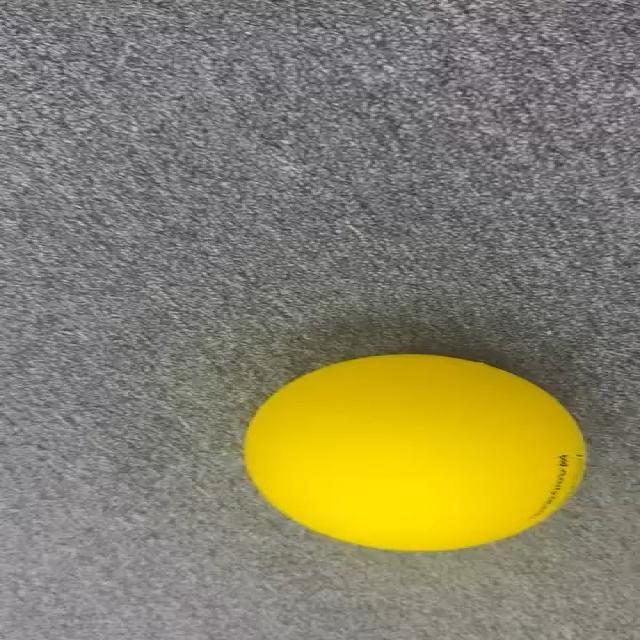Fuels: (245, 355, 583, 550)
